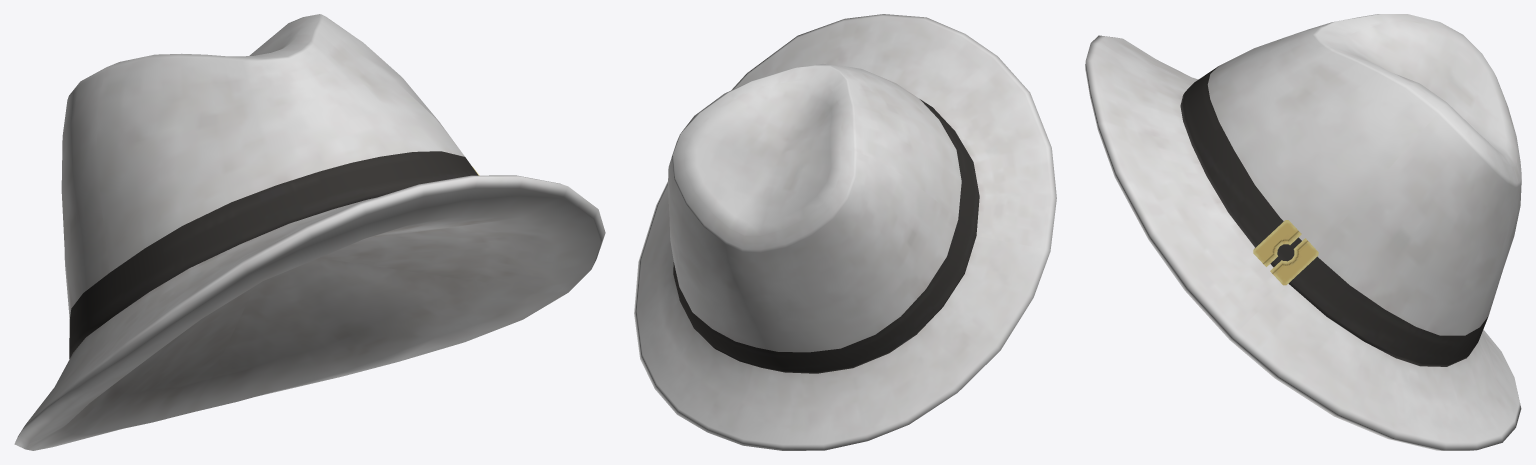
File: p0_hdw0007_00_hdw00.gltf
The picture shows the model from 3 angles, left to right: view 1: azimuth 30°, elevation 25°; view 2: azimuth 150°, elevation 25°; view 3: azimuth 270°, elevation 25°; orthographic projection. The views are drawn at different scales.
Parts seen in each view (by area): view 1: hdw00_cap_mesh_shape:cap; view 2: hdw00_cap_mesh_shape:cap; view 3: hdw00_cap_mesh_shape:cap.
Boxes of the visible parts, x1,y1,x2,y2 form: hdw00_cap_mesh_shape:cap: [14, 14, 605, 450]; hdw00_cap_mesh_shape:cap: [634, 14, 1056, 450]; hdw00_cap_mesh_shape:cap: [1085, 14, 1521, 450].
Size of what is drawn, in the model's own units: 0.4032 by 0.3246 by 0.3408.
Materials: 1 (1 with a texture image).
